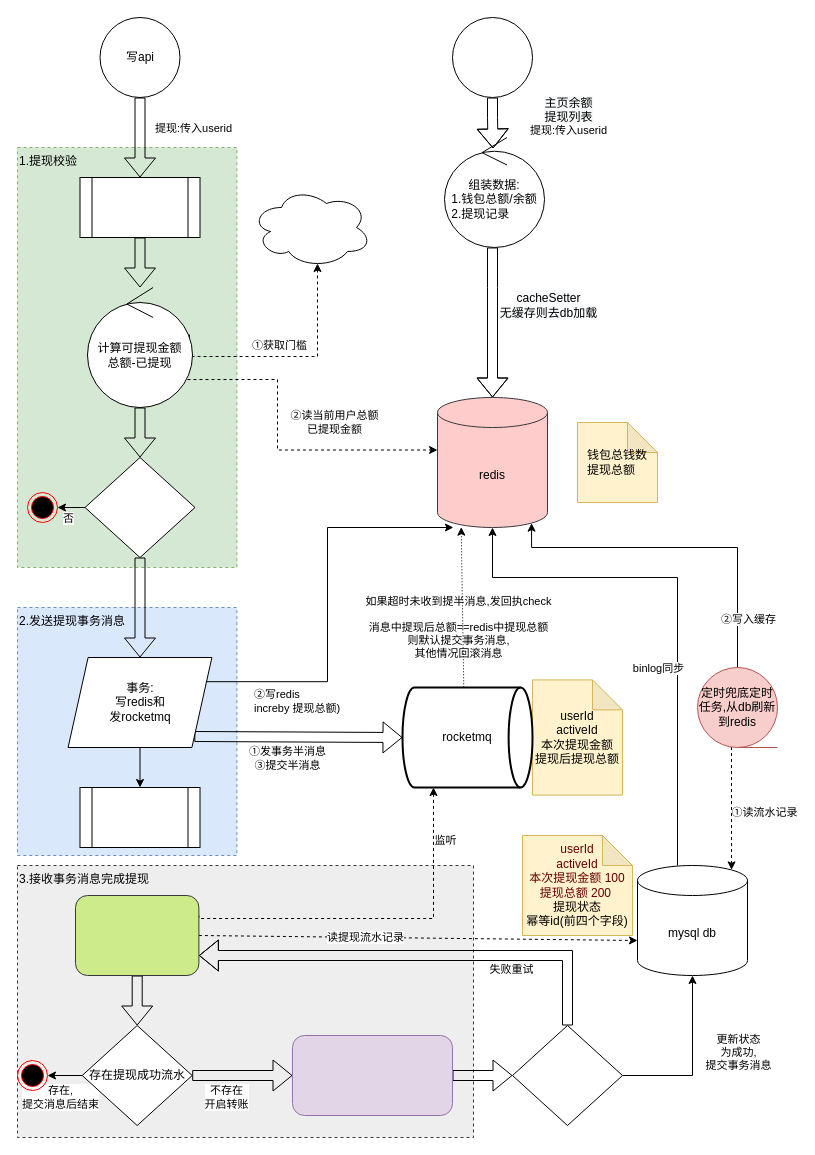
Some shapes in this 815 by 1155 pixel diagram are drawn without their labels. The box of each missing label's shape, as (x1, y1, x2, y2) in pixels:
consumer: (74, 894, 199, 976)
kconf配置 门槛: (250, 186, 372, 268)
加用户分布式锁 3s: (79, 176, 200, 238)
总额-已提现 >=提现门槛*n: (84, 456, 195, 558)
接口返回是否成功: (512, 1024, 622, 1126)
激励中台 发奖中心: (292, 1034, 452, 1116)
读api: (452, 16, 532, 98)
释放用户 分布式锁: (79, 786, 200, 848)
